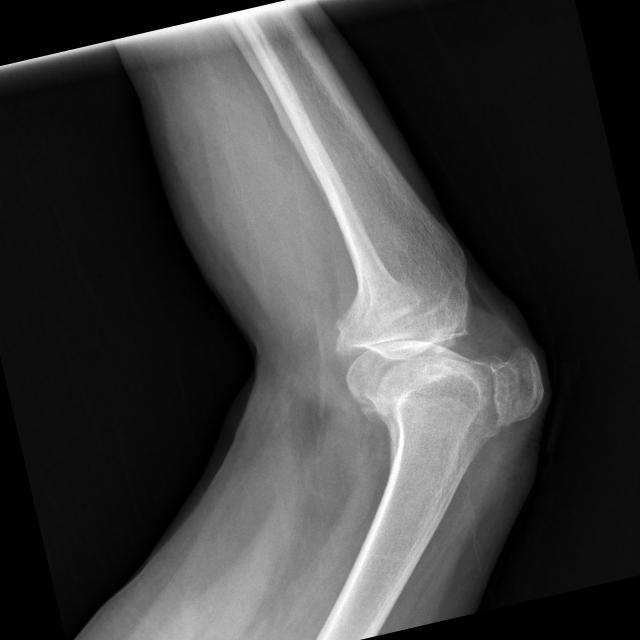Knee: (304, 243, 552, 468)
